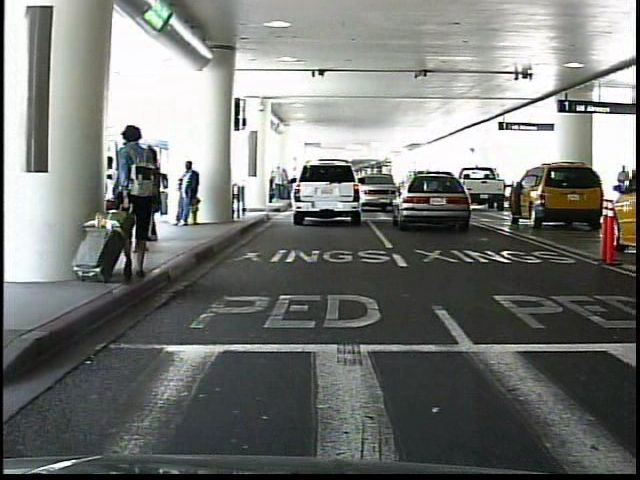person: (114, 123, 165, 285), (139, 145, 167, 239), (175, 158, 203, 230), (615, 163, 629, 214)
